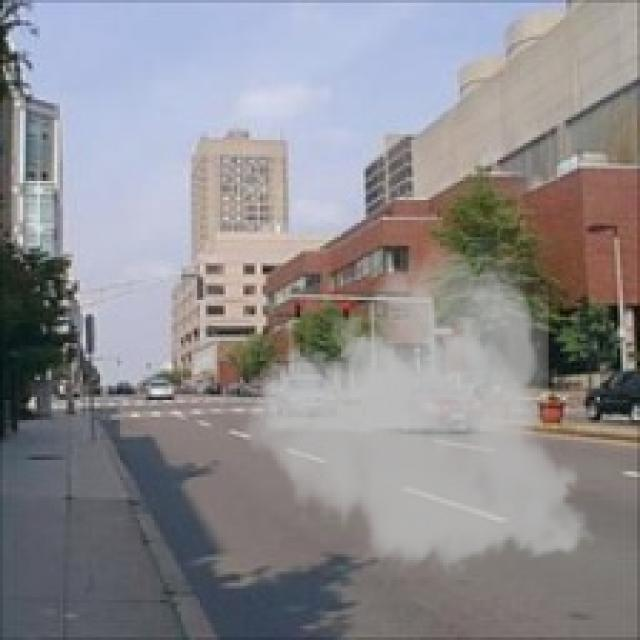smoke: (231, 237, 606, 580)
